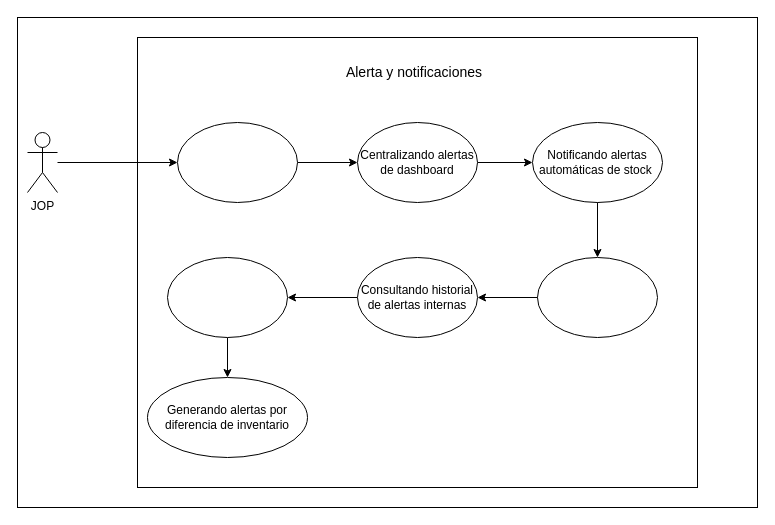
Image size: 775x525. Some labels were removed from this diagram. The shapes that lost their labels are listed below. From the top down, each one's centre as x and y in pixels, then its label:
At [237,162]: "Priorizando alertas críticas".
At [227,297]: "Registrando resolución de alerta".
At [597,297]: "Recibiendo notificaciones internas por rol".
